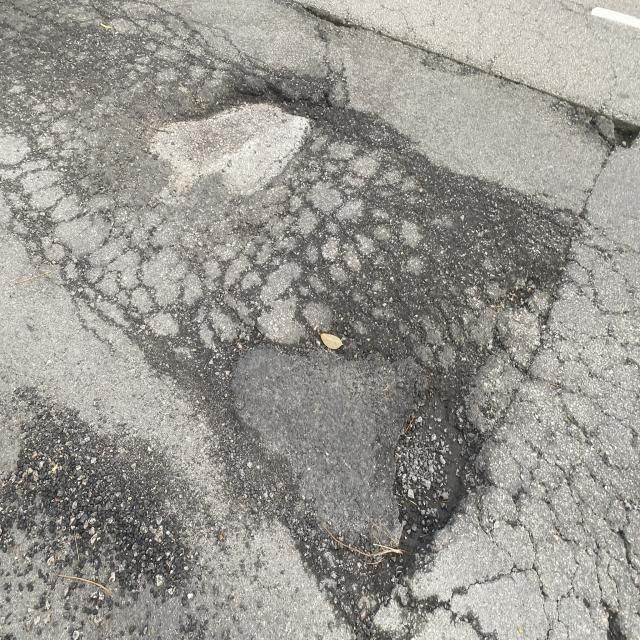Pothole: (309, 318, 511, 612), (177, 58, 356, 170), (513, 82, 640, 190)
